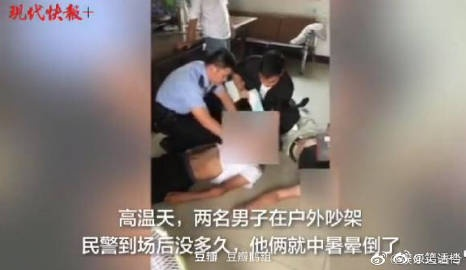falling: (136, 124, 288, 204)
